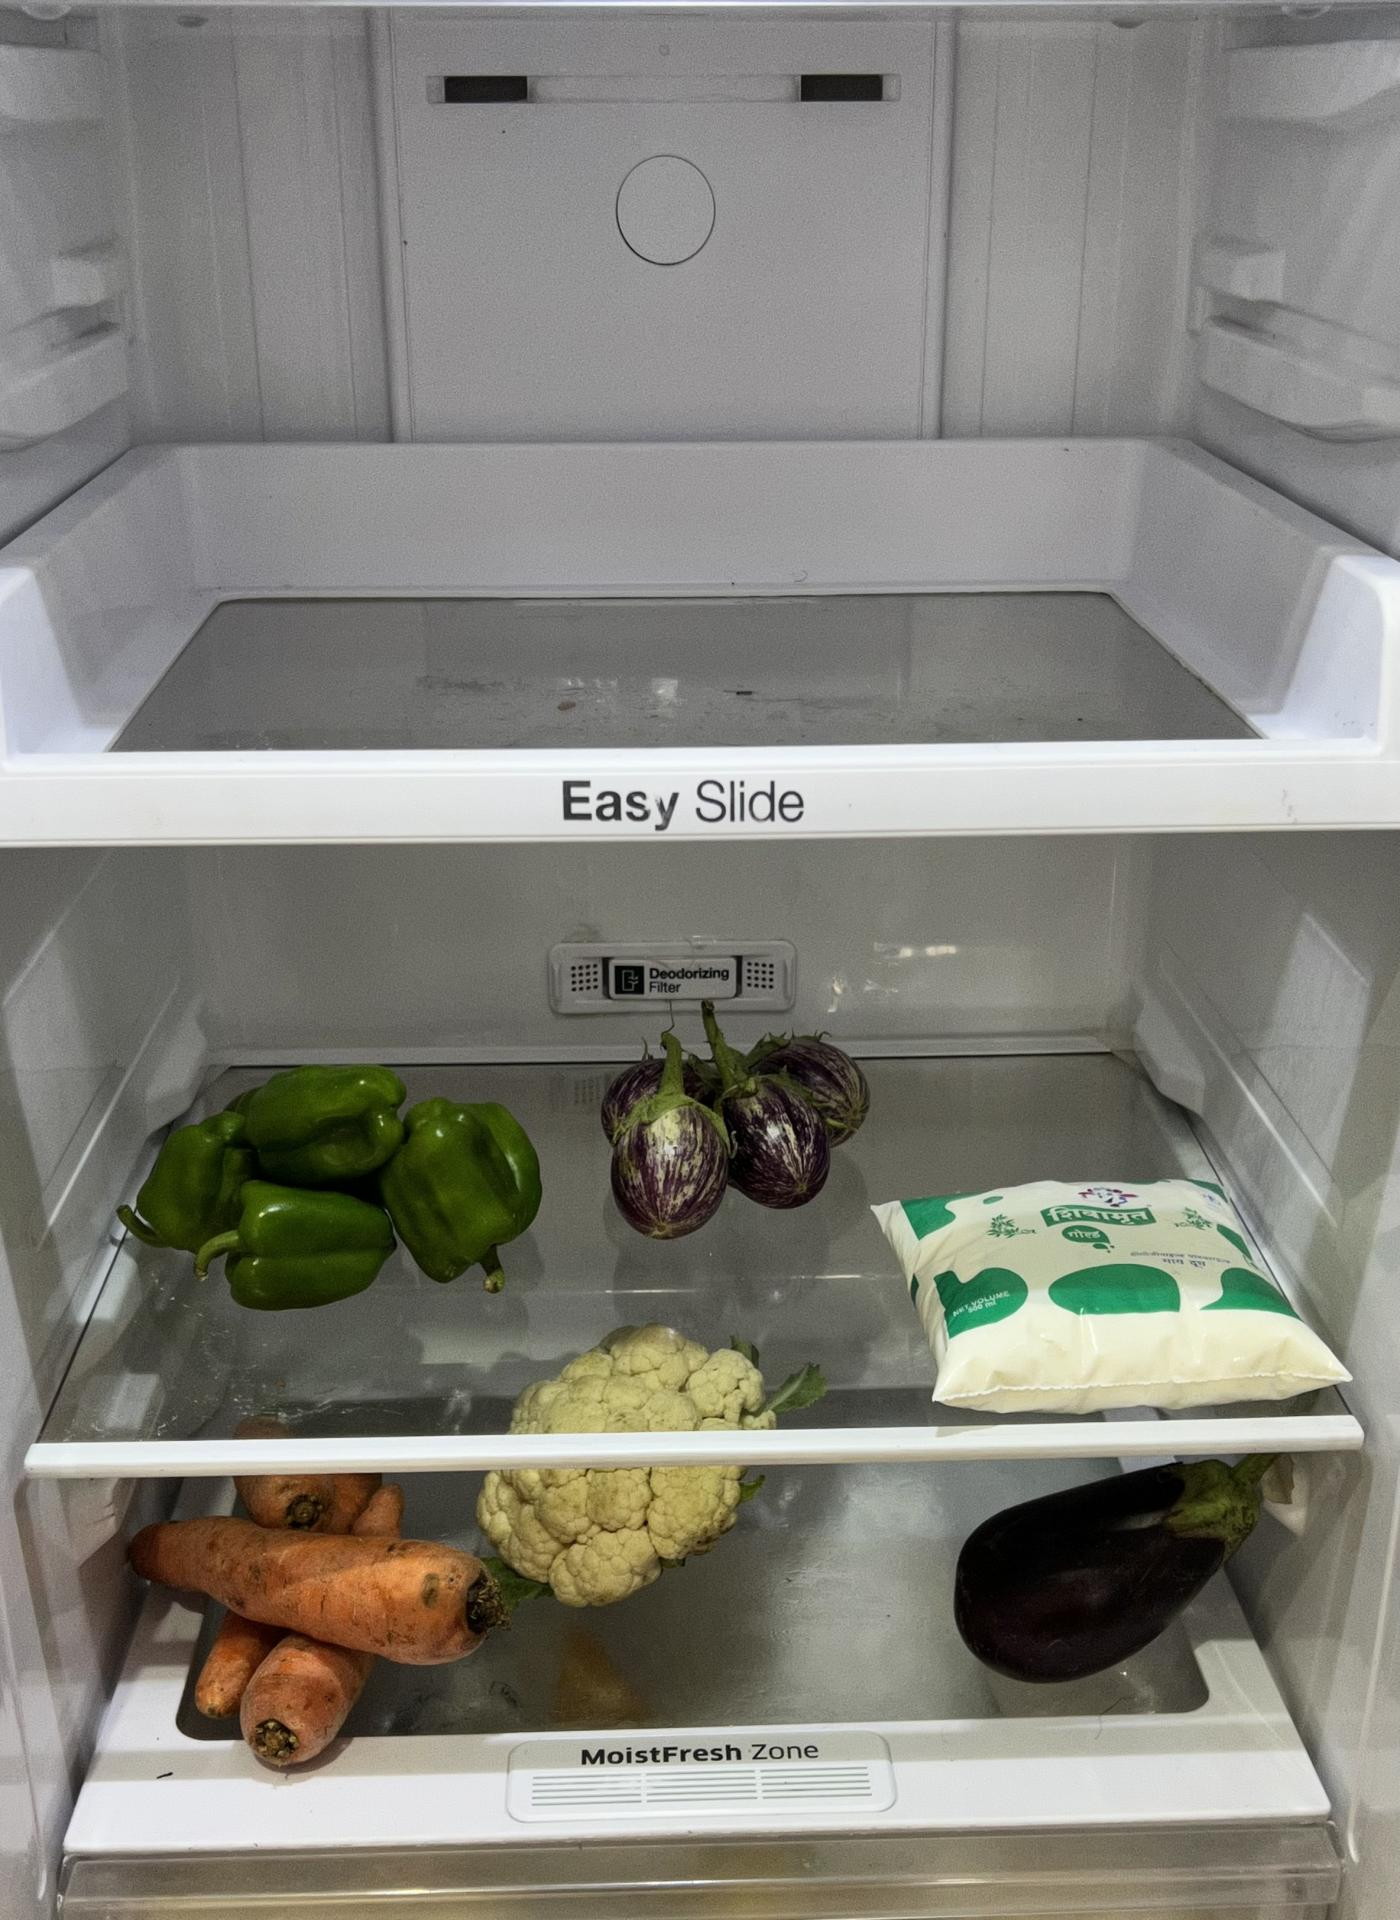capsicum: (139, 1069, 541, 1310)
carrots: (125, 1482, 492, 1762)
cauliflower: (491, 1328, 763, 1594)
milk: (880, 1167, 1345, 1410)
